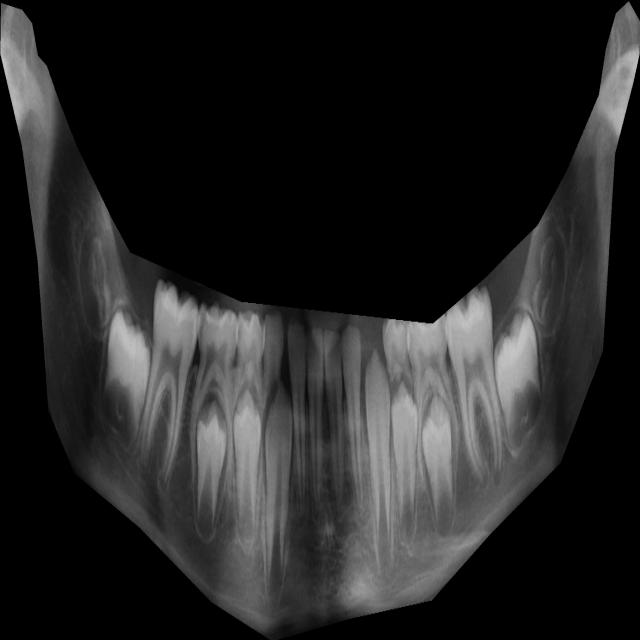mandibula: (0, 1, 640, 640)
